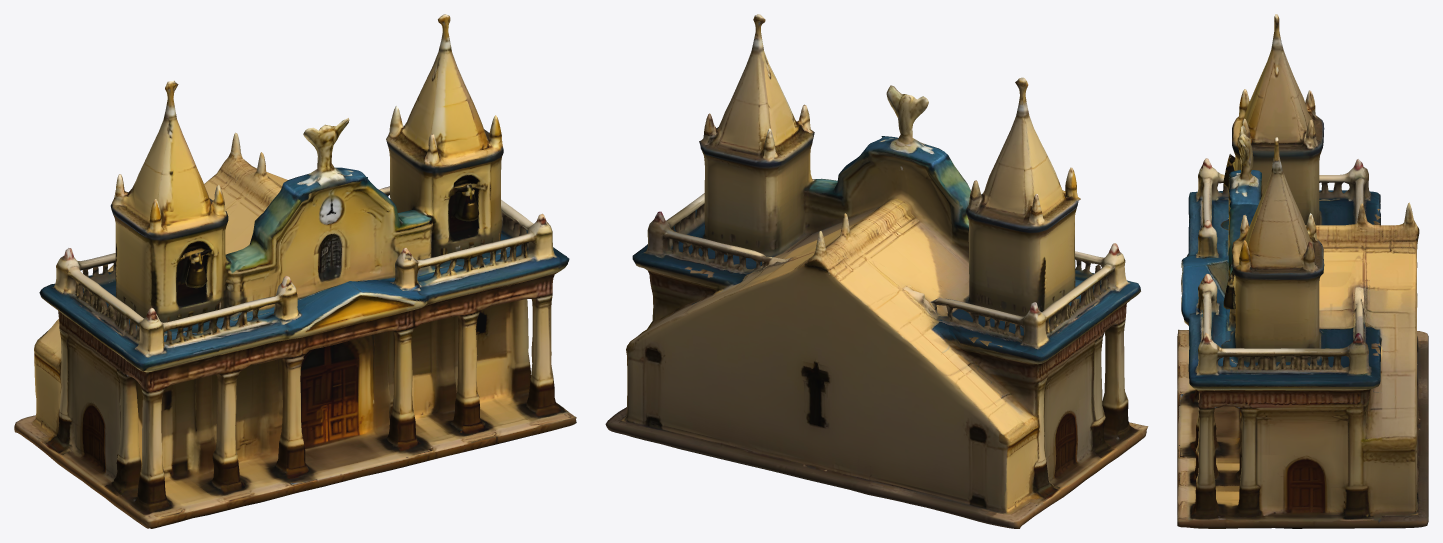
File: iglesia.fbx
3 renders of one model, left to right at view 1: azimuth 30°, elevation 25°; view 2: azimuth 150°, elevation 25°; view 3: azimuth 270°, elevation 25°, orthographic. The views are drawn at different scales.
Visible parts, largest first — view 1: tripo_node_11f5e5cc; view 2: tripo_node_11f5e5cc; view 3: tripo_node_11f5e5cc.
Boxes of the visible parts, x1,y1,x2,y2 form: tripo_node_11f5e5cc: (14, 14, 576, 528); tripo_node_11f5e5cc: (605, 14, 1148, 528); tripo_node_11f5e5cc: (1177, 14, 1428, 528).
Size of the model in its own units: 100 by 86.95 by 55.4.
1 material, 1 textured.
